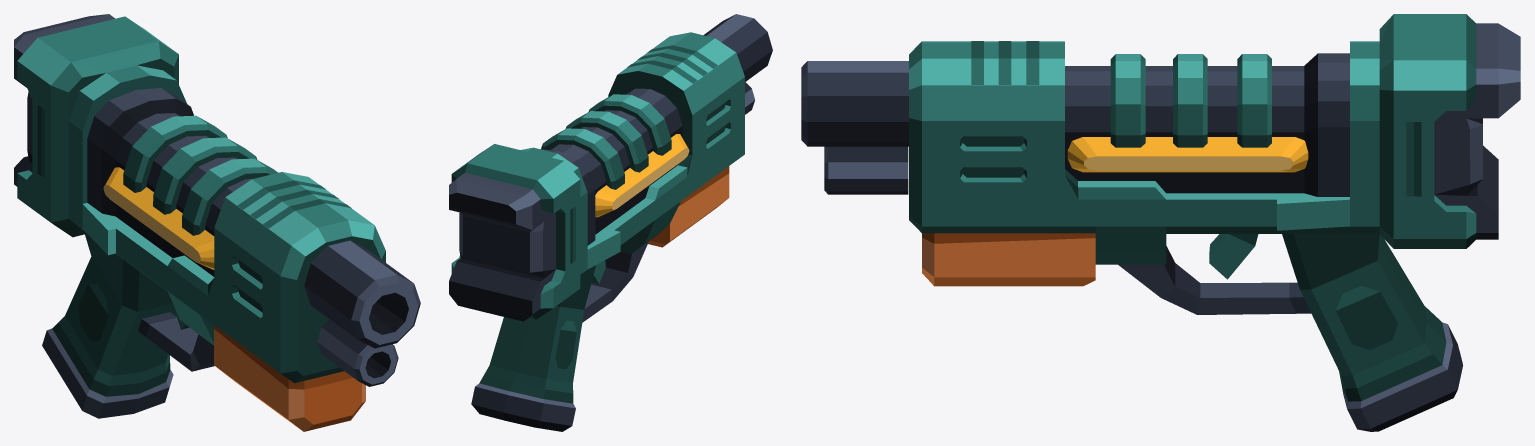
Rendered from Cosmic_Retro_Blaster_1.fbx.
3 renders of one model, left to right at view 1: azimuth 30°, elevation 25°; view 2: azimuth 150°, elevation 25°; view 3: azimuth 270°, elevation 25°, orthographic. The views are drawn at different scales.
Parts seen in each view (by area): view 1: Cosmic_Retro_Blaster_1; view 2: Cosmic_Retro_Blaster_1; view 3: Cosmic_Retro_Blaster_1, Cosmic_Retro_Blaster_Trigger_1.
Part boxes in pixels (x1,y1,x2,y2): Cosmic_Retro_Blaster_1: (14, 14, 420, 431); Cosmic_Retro_Blaster_1: (449, 14, 772, 431); Cosmic_Retro_Blaster_1: (801, 14, 1520, 431); Cosmic_Retro_Blaster_Trigger_1: (1209, 234, 1258, 279).
Bounding box in the file's own units: 0.079 × 0.2074 × 0.3545.
